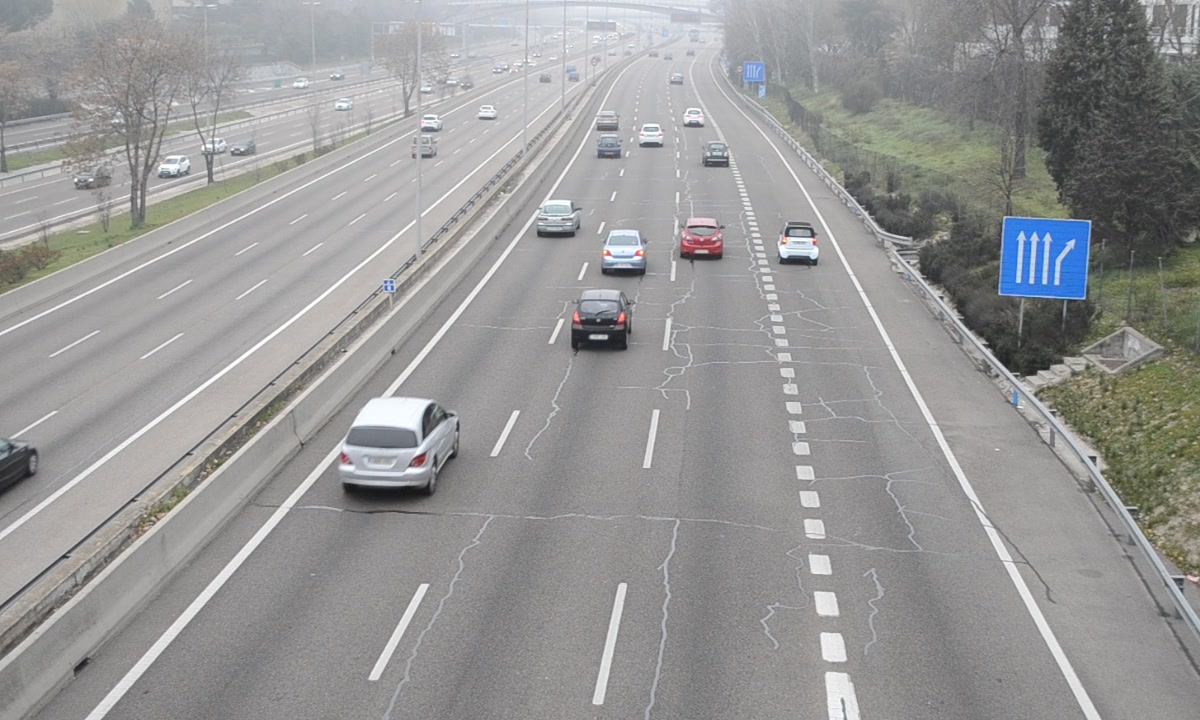car: (337, 395, 460, 489), (573, 288, 634, 354), (601, 229, 649, 279), (681, 217, 726, 261), (778, 221, 820, 266), (536, 200, 581, 239), (702, 141, 731, 168), (596, 134, 625, 161), (638, 122, 665, 149), (595, 110, 621, 131)
